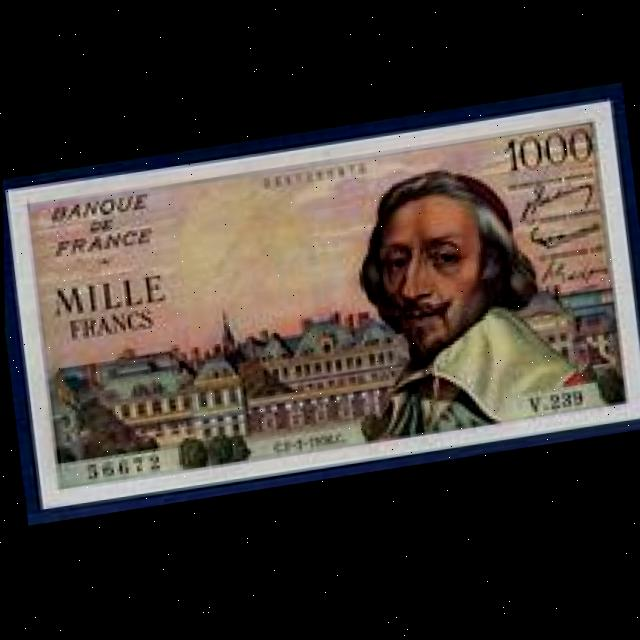banknote: (1, 97, 640, 514), (49, 269, 172, 324), (497, 127, 596, 183)
